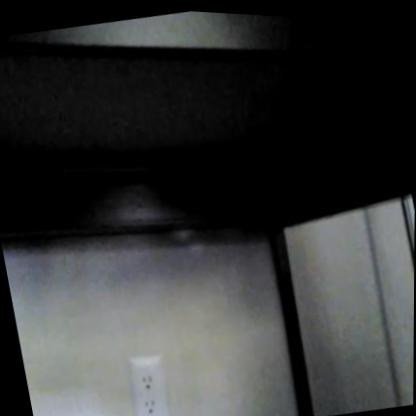OUTLET: (126, 351, 171, 416)
